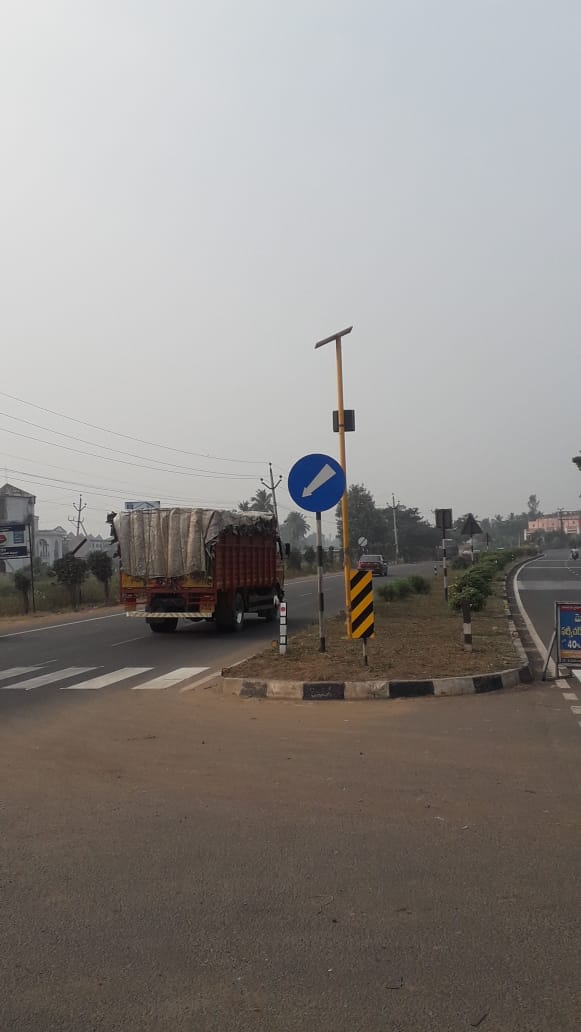go left: (276, 446, 361, 516)
